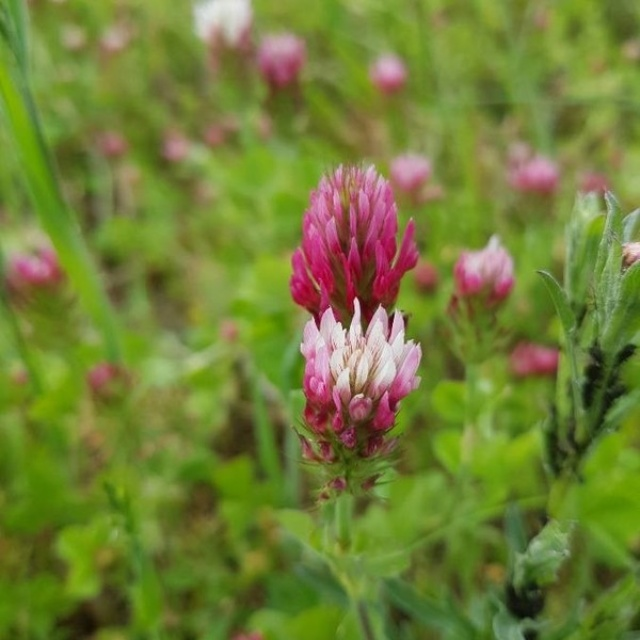obstacle: (220, 135, 531, 629), (514, 153, 628, 590)
